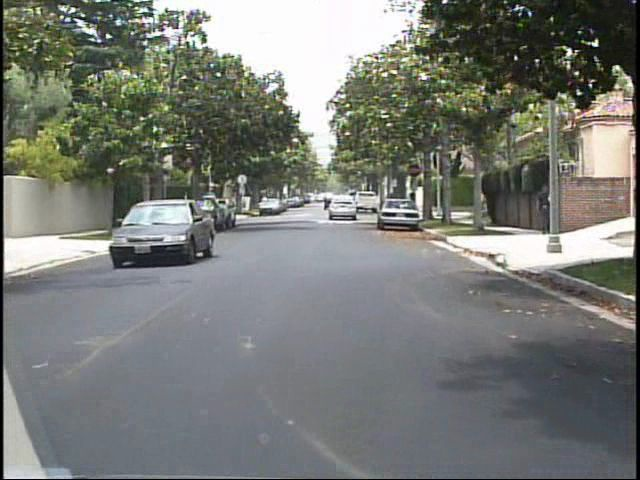person: (533, 178, 552, 238), (166, 192, 182, 231)
